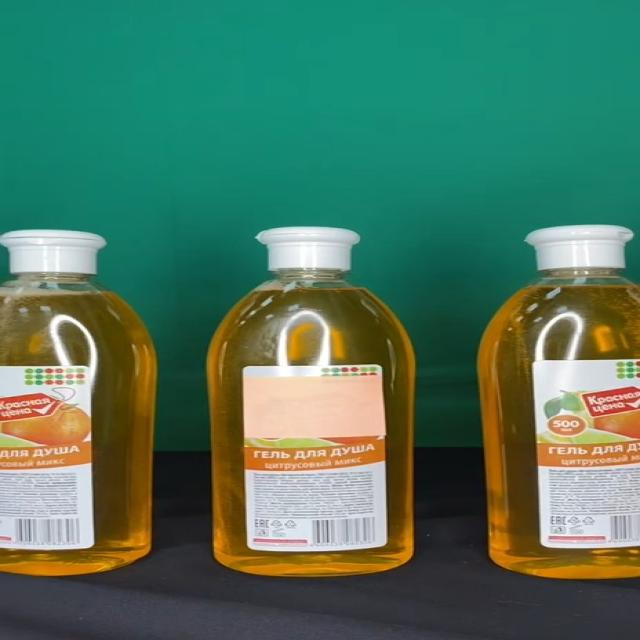Bottle: (208, 227, 416, 576), (477, 224, 640, 579), (0, 229, 159, 575)
Cap: (525, 224, 634, 269), (0, 230, 106, 274), (255, 226, 360, 268)
